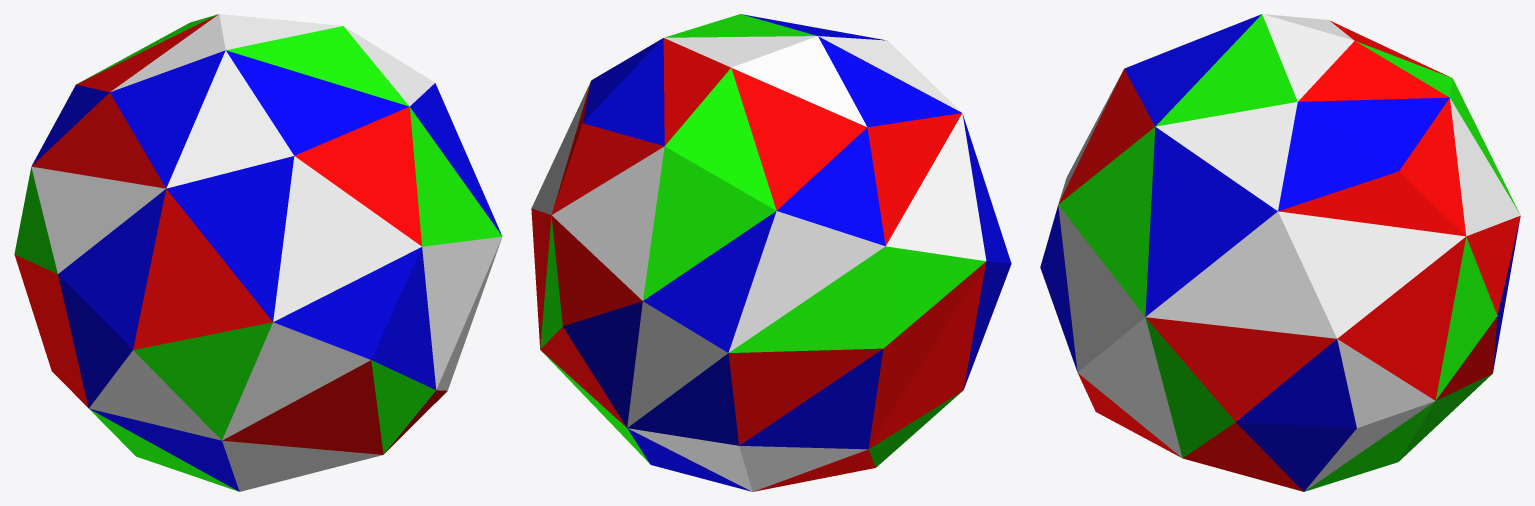
File: sphire.fbx
3 views of the same model, side by side, from view 1: azimuth 30°, elevation 25°; view 2: azimuth 150°, elevation 25°; view 3: azimuth 270°, elevation 25° (orthographic).
Parts seen in each view (by area): view 1: sphire; view 2: sphire; view 3: sphire.
Boxes of the visible parts, x1,y1,x2,y2 form: sphire: (14, 14, 502, 491); sphire: (531, 14, 1011, 491); sphire: (1040, 14, 1520, 491).
Size of the model in its own units: 60.62 by 61.16 by 60.81.
